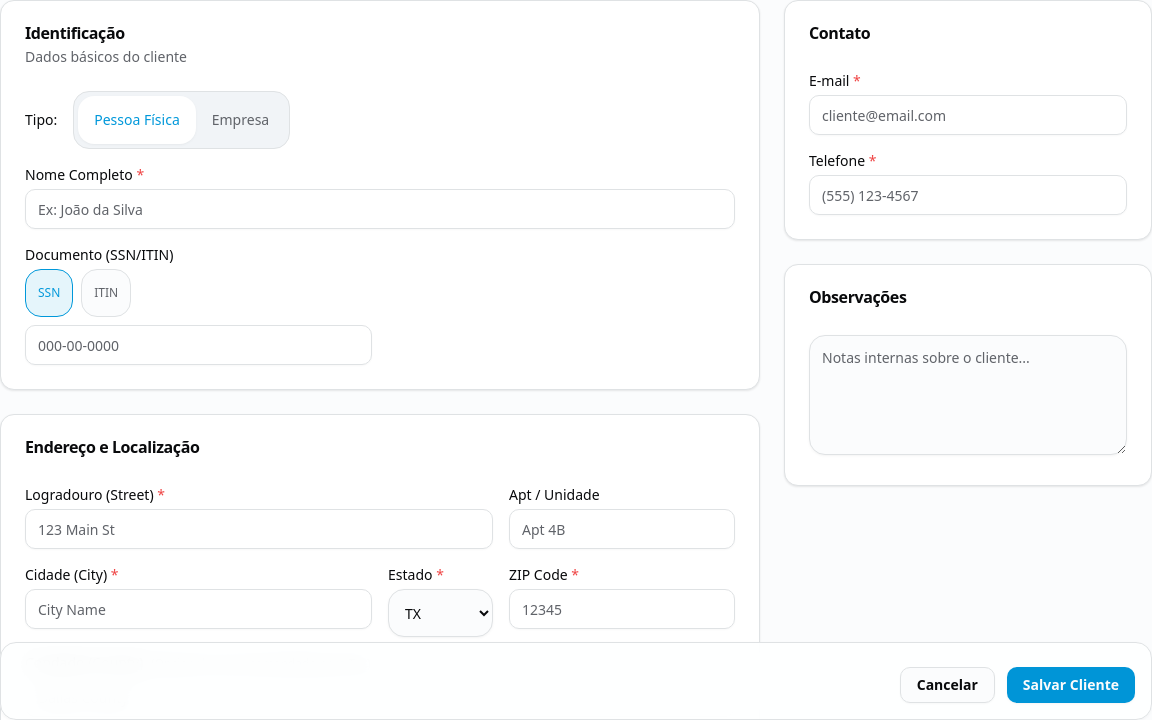
Test case: ClienteForm › PJ Validation › shows required field errors for PJ on empty submit
Click the button "Empresa" at point(241, 120), box [196,96,285,144]
(page scrolled)
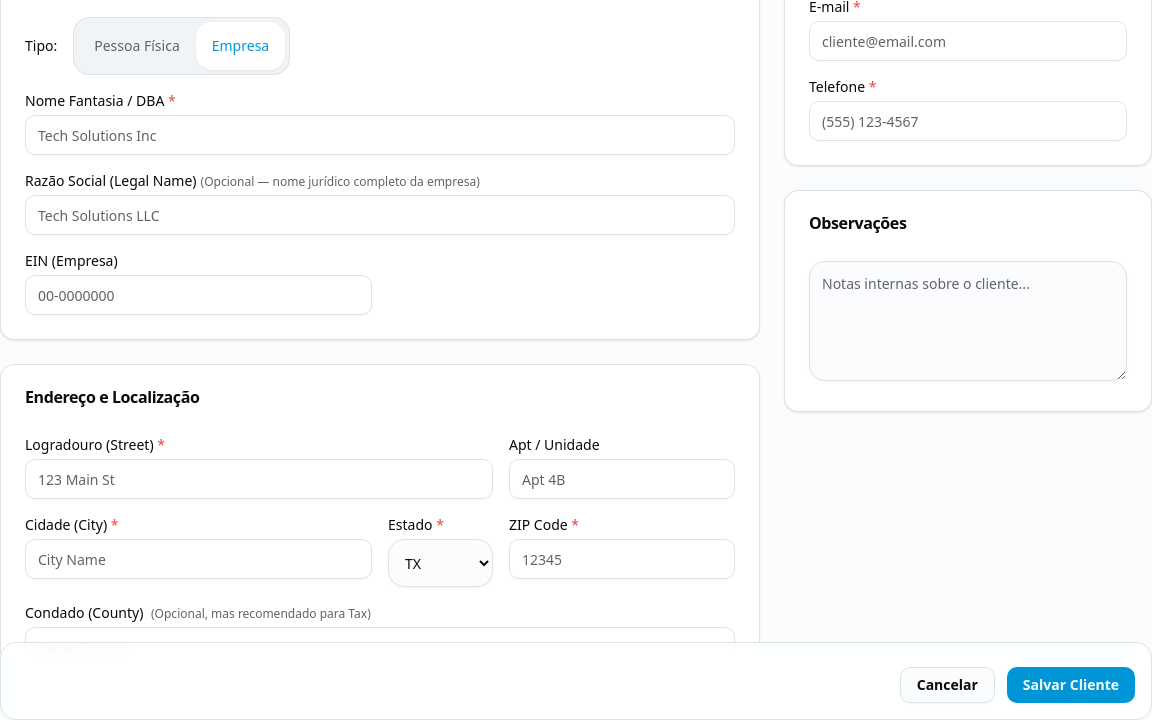
Submit the form named "salvar"
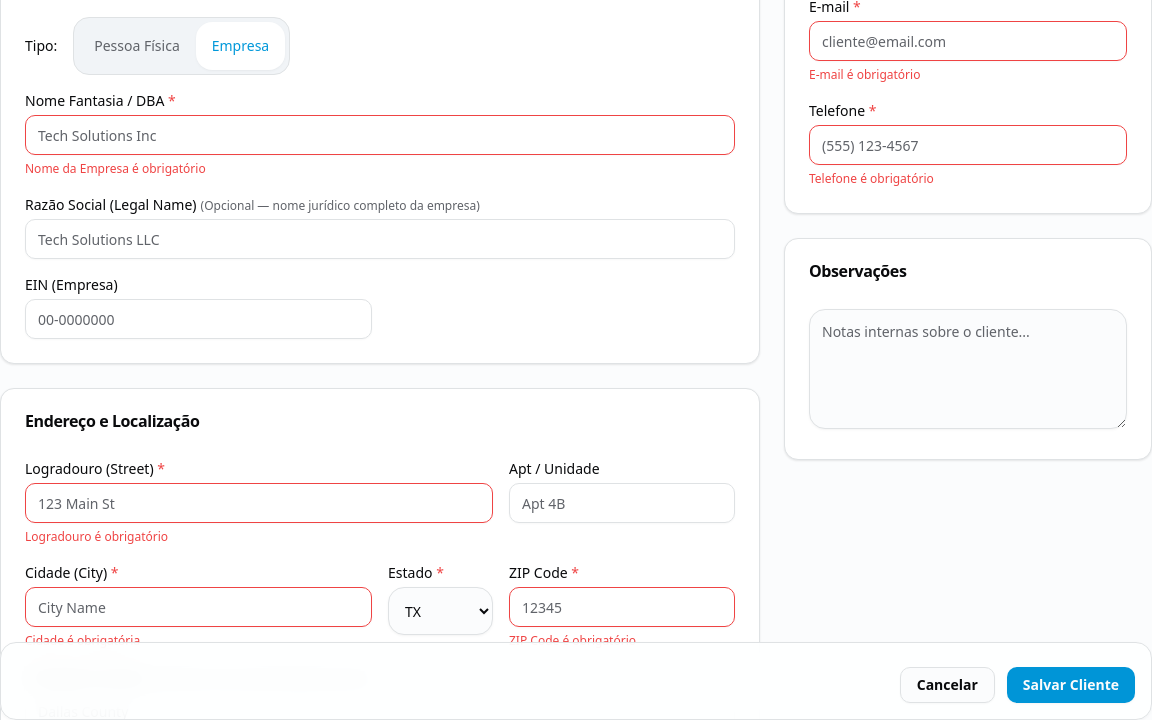
Expected: the text "Nome da Empresa é obrigatório" is shown, [25,160,206,177]
Expected: the text "E-mail é obrigatório" is shown, [809,66,920,83]
